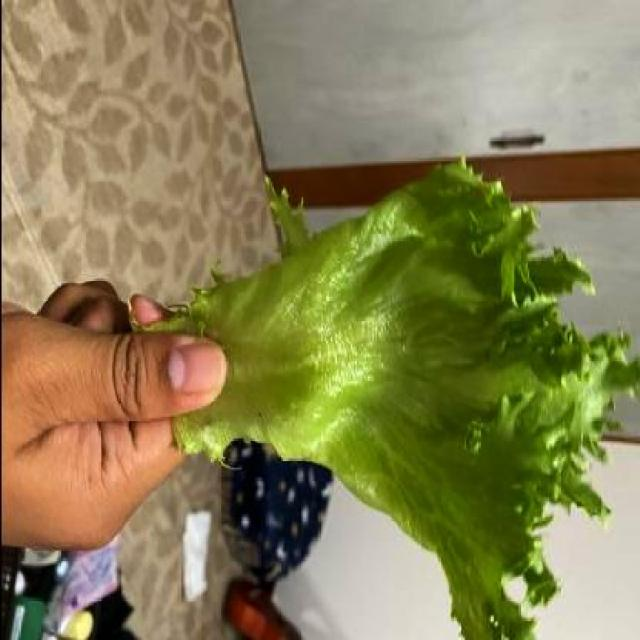Lettuce: (144, 143, 640, 640)
